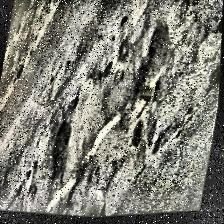pothole: (116, 22, 184, 140), (46, 118, 76, 182)
